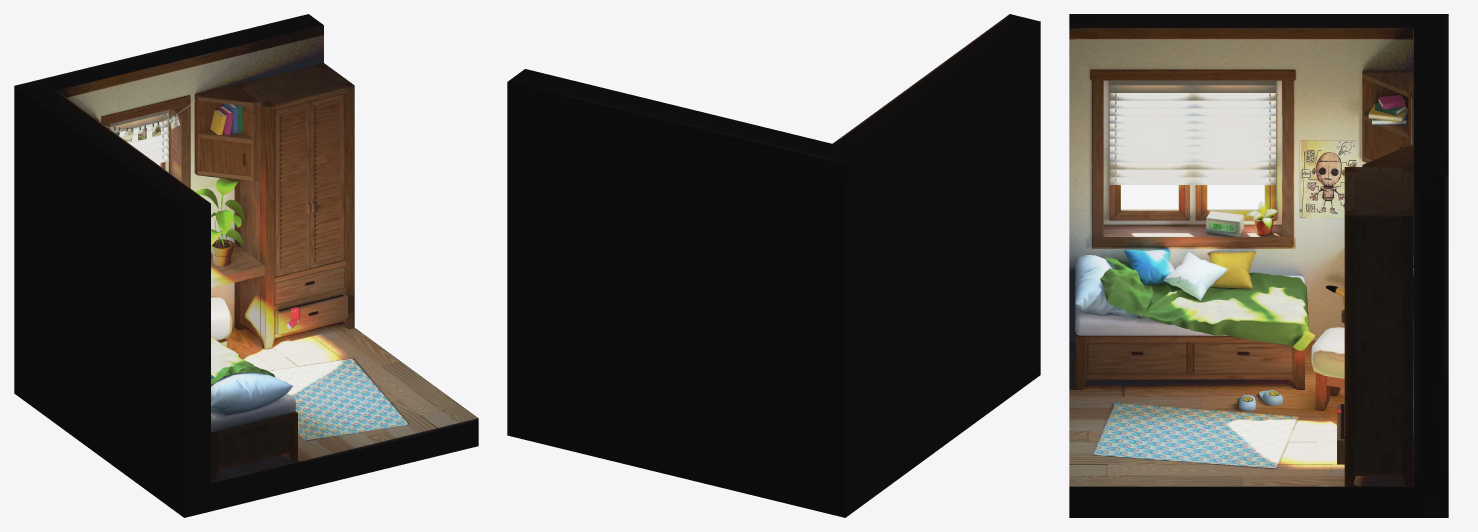
Rendered from room-transformed.glb.
3 views of the same model, side by side, from view 1: azimuth 30°, elevation 25°; view 2: azimuth 150°, elevation 25°; view 3: azimuth 270°, elevation 25° (orthographic). The views are drawn at different scales.
Visible parts, largest first — view 1: room_lowpoly, wardrobe_lowpoly, cupboards_lowpoly, bed_lowpoly, pillow_big_lowpoly, plant_big_lowpoly, shutter_lowpoly, desk_lowpoly, mattress_lowpoly, blanket_lowpoly, book_lowpoly, pouf_seat_lowpoly (+1 smaller); view 2: room_lowpoly; view 3: room_lowpoly, wardrobe_lowpoly, shutter_lowpoly, blanket_lowpoly, bed_lowpoly, cupboards_lowpoly, window_lowpoly, mattress_lowpoly, pillow_big_lowpoly, pillow_02_lowpoly, pouf_seat_lowpoly, pillow_03_lowpoly (+6 smaller).
Boxes of the visible parts, x1,y1,x2,y2 form: room_lowpoly: (14,14,478,517); wardrobe_lowpoly: (234,63,354,349); cupboards_lowpoly: (95,84,257,181); bed_lowpoly: (211,411,297,480); pillow_big_lowpoly: (211,372,292,415); plant_big_lowpoly: (195,178,245,266); shutter_lowpoly: (110,110,168,163); desk_lowpoly: (211,243,265,288); mattress_lowpoly: (211,384,296,432); blanket_lowpoly: (211,336,274,384); book_lowpoly: (210,103,243,134); pouf_seat_lowpoly: (211,296,232,340); room_lowpoly: (507,14,1040,517); room_lowpoly: (1069,14,1448,517); wardrobe_lowpoly: (1337,167,1413,486); shutter_lowpoly: (1109,80,1275,184); blanket_lowpoly: (1100,257,1315,350); bed_lowpoly: (1075,331,1304,389); cupboards_lowpoly: (1362,70,1413,255); window_lowpoly: (1109,81,1276,220); mattress_lowpoly: (1075,275,1304,335); pillow_big_lowpoly: (1075,255,1139,317); pillow_02_lowpoly: (1163,251,1227,300); pouf_seat_lowpoly: (1311,327,1344,378); pillow_03_lowpoly: (1209,251,1255,288).
Size of the model in its own units: 660 by 660 by 686.
3 materials, 3 textured.
